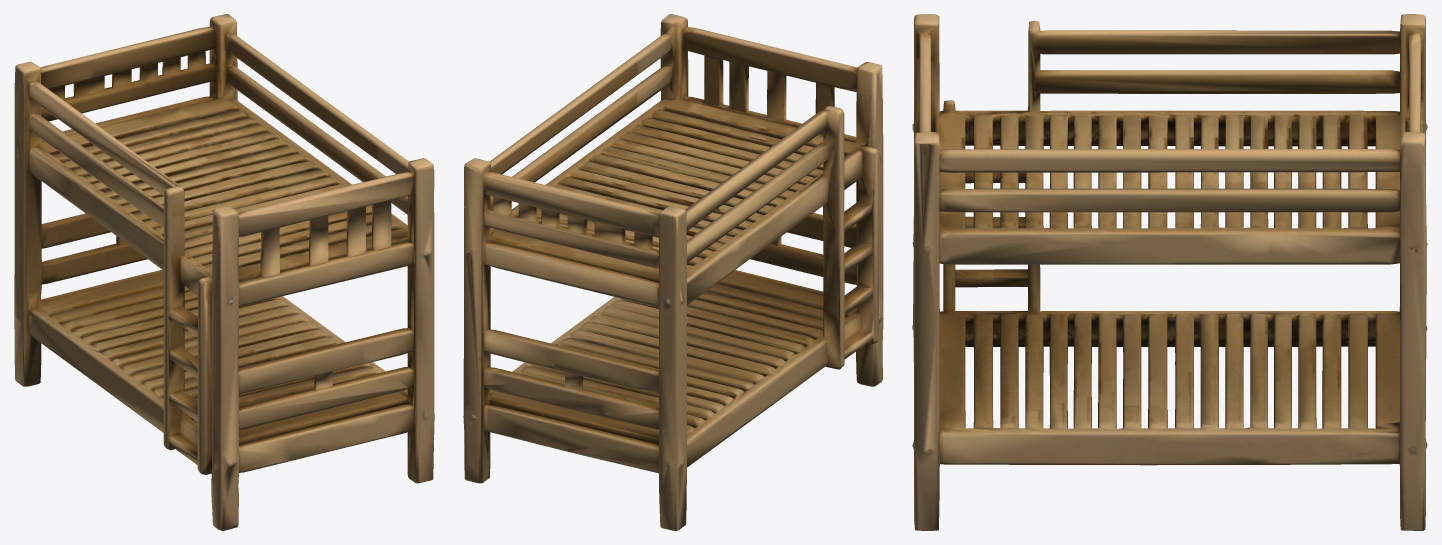
Rendered from bed-bunk.glb.
3 views of the same model, side by side, from view 1: azimuth 30°, elevation 25°; view 2: azimuth 150°, elevation 25°; view 3: azimuth 270°, elevation 25° (orthographic). The views are drawn at different scales.
Parts seen in each view (by area): view 1: node_0; view 2: node_0; view 3: node_0.
Boxes of the visible parts, <box> form: node_0: <box>14,14,434,530</box>; node_0: <box>463,14,883,530</box>; node_0: <box>912,14,1427,530</box>.
Size of the model in its own units: 0.5195 by 0.7055 by 0.8431.
Materials: 1 (1 with a texture image).
